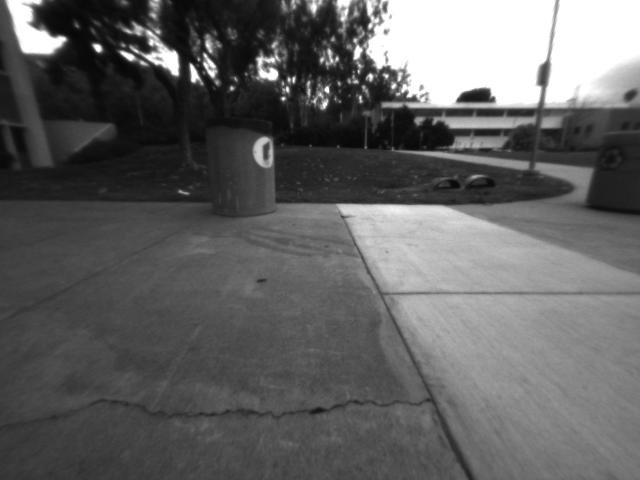trashcan: (199, 105, 288, 221), (588, 117, 640, 223)
